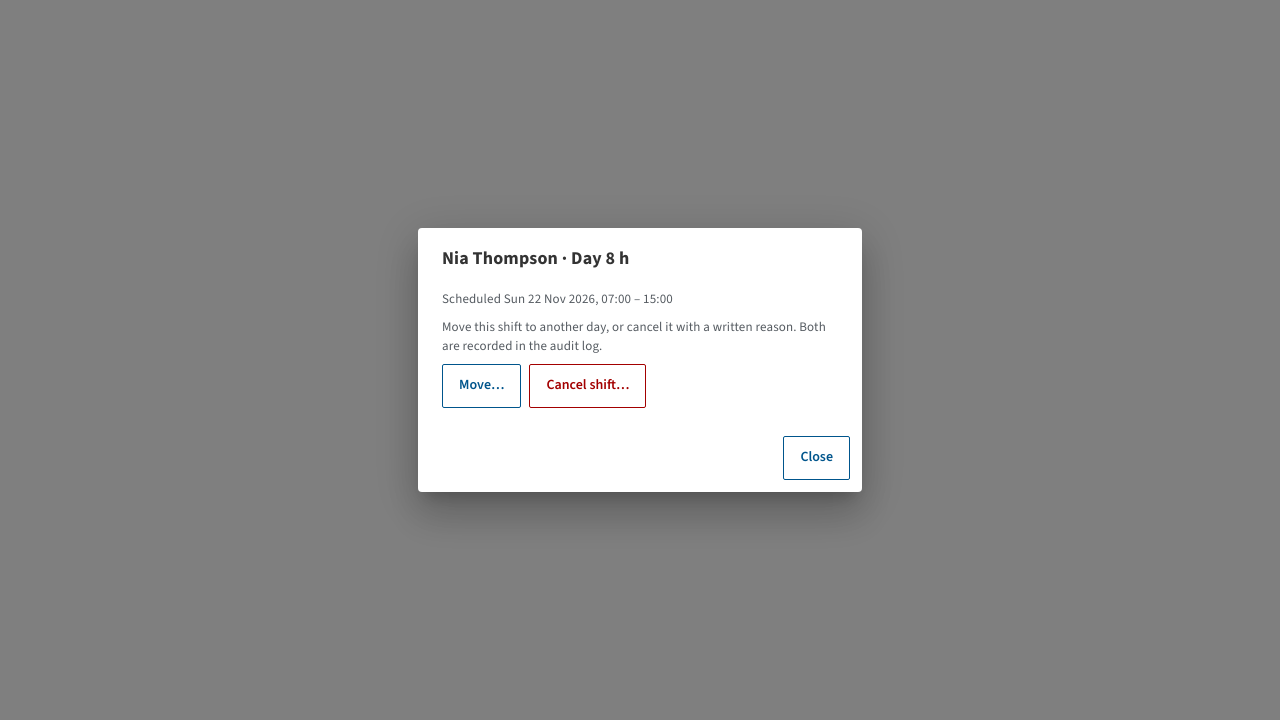
Test: the rostered shift dialog › says to reload the board when the version is stale
Later steps or results of the test are not shown.
What coordinates should you click on to do the following:
click the button "Move…"
I would click on:
 (482, 386)
Its box is [442, 364, 522, 408].
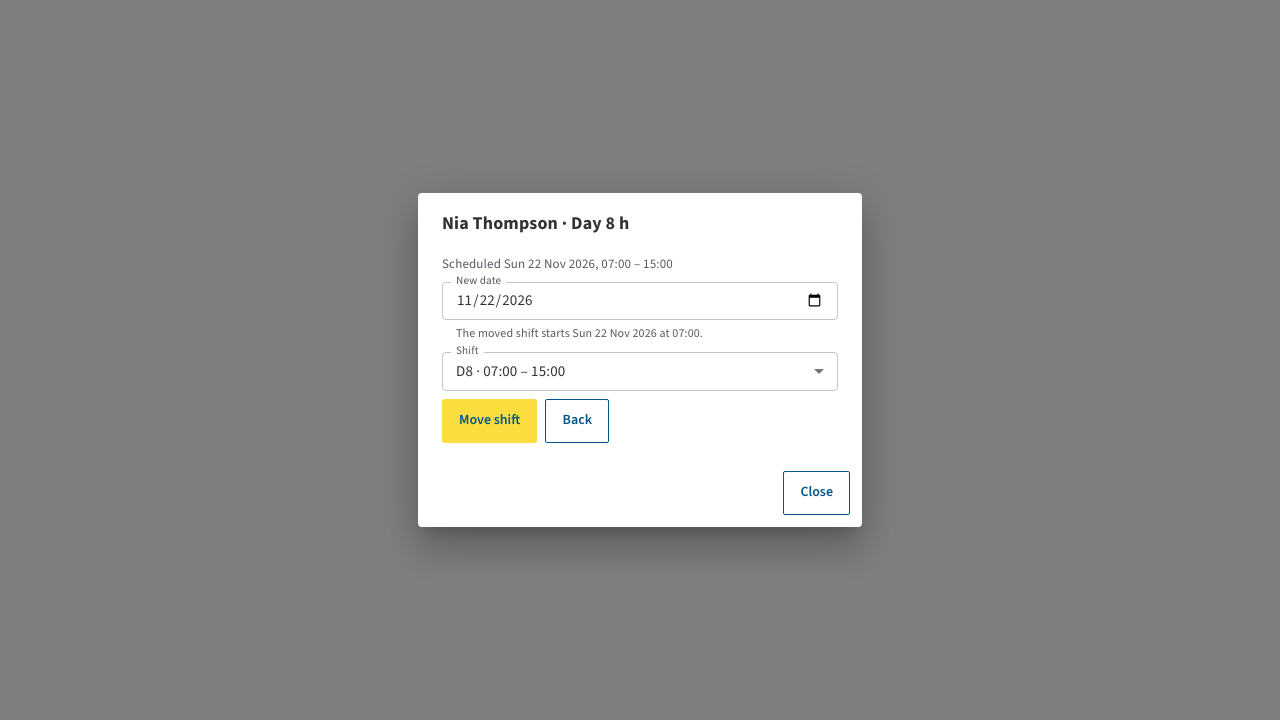
What coordinates should you click on to do the following:
click the button "Move shift"
I would click on:
 (490, 421)
Its box is [442, 399, 537, 443].
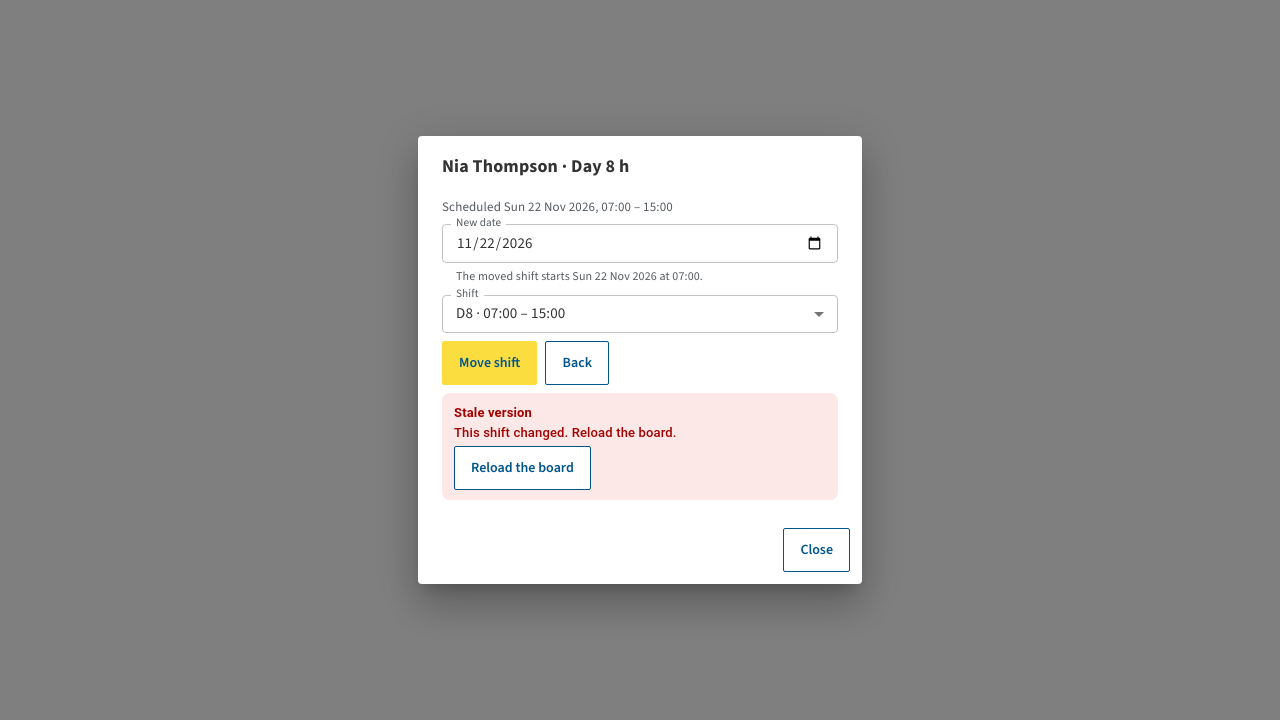
Check: the text "This shift changed. Reload the board." is shown, box [454, 425, 677, 440]
